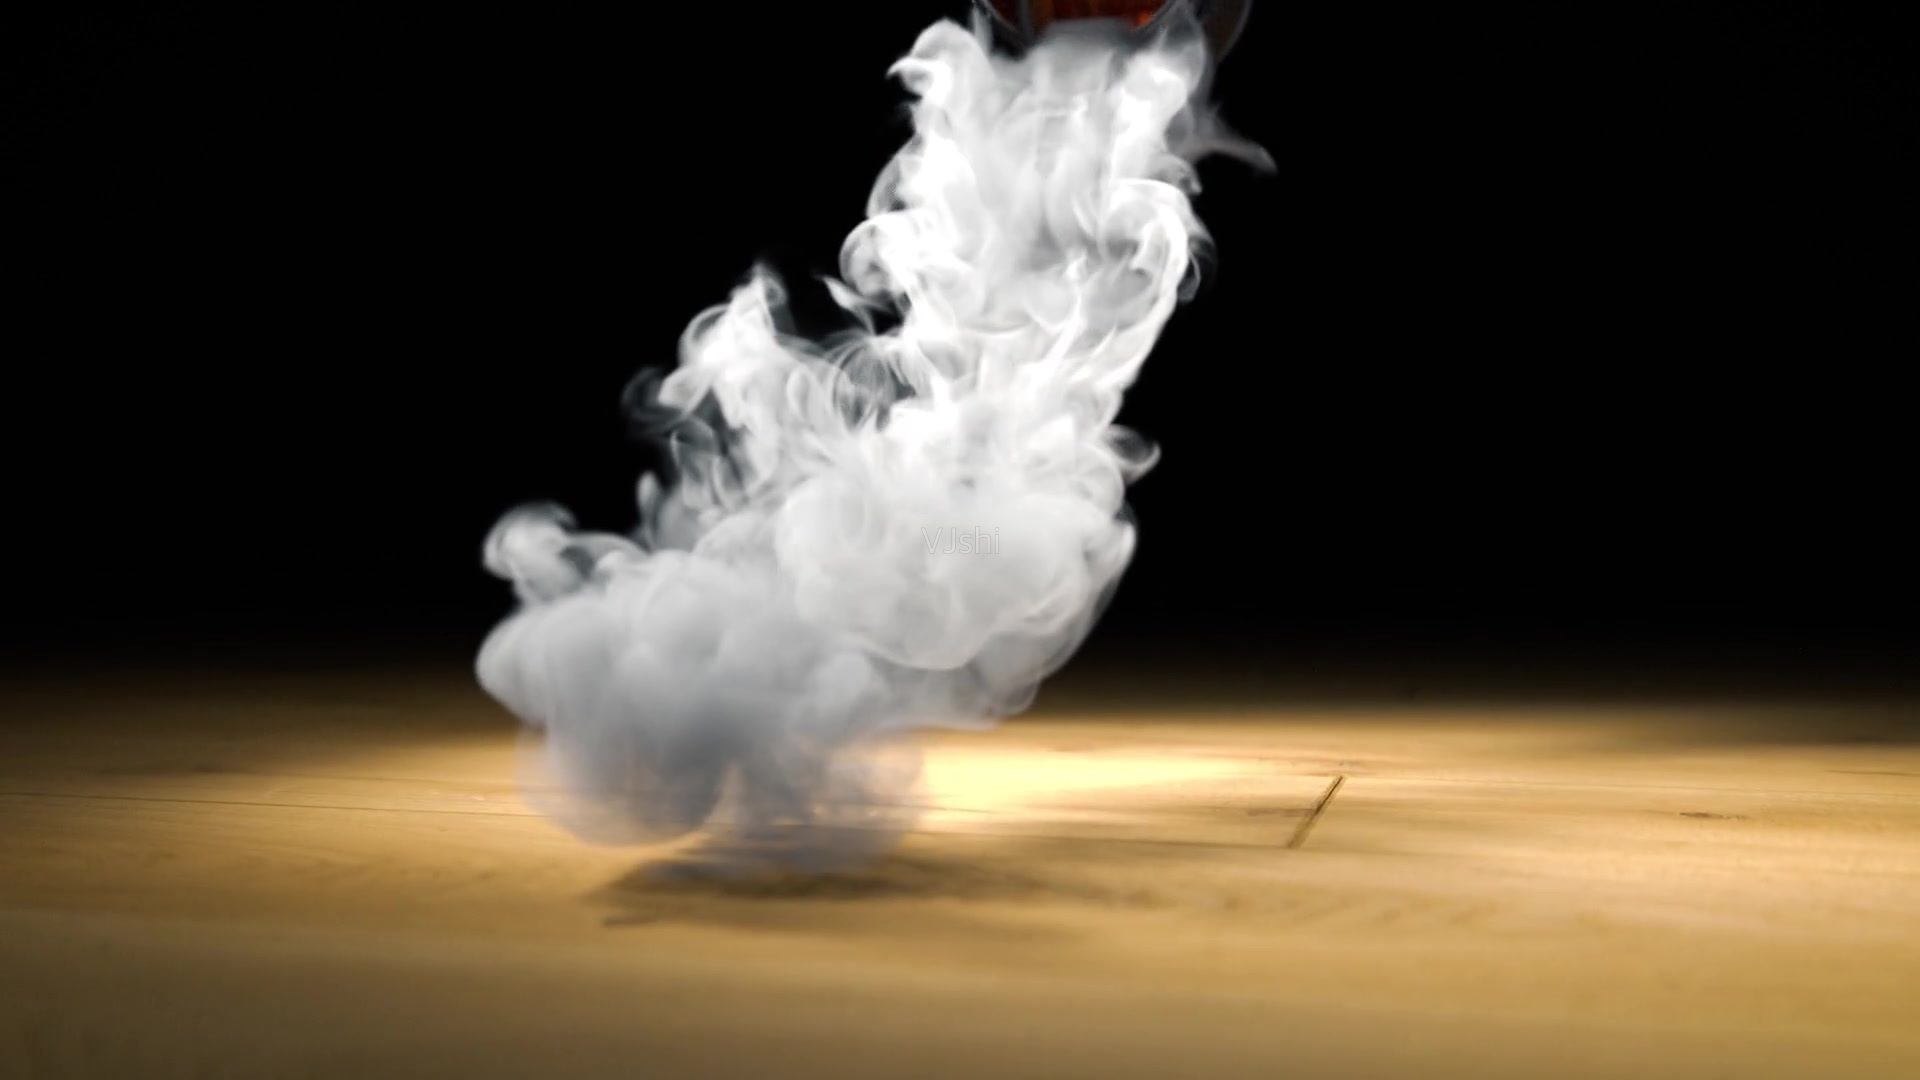smoke: (473, 74, 1226, 905), (502, 597, 1025, 893), (597, 252, 1040, 564)
